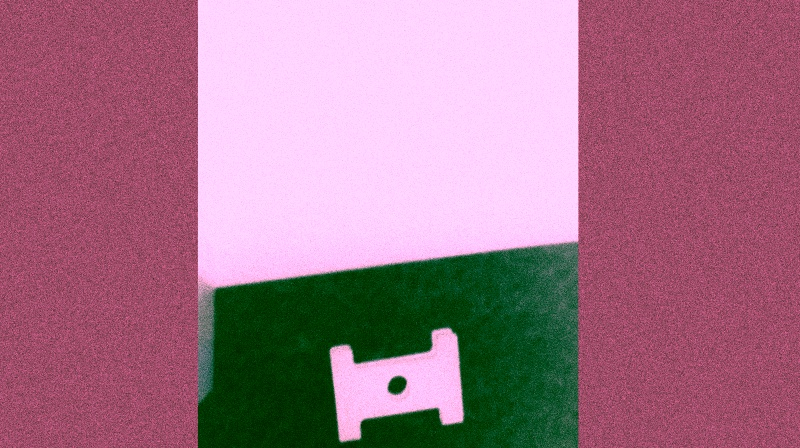O002: (327, 326, 467, 446)
